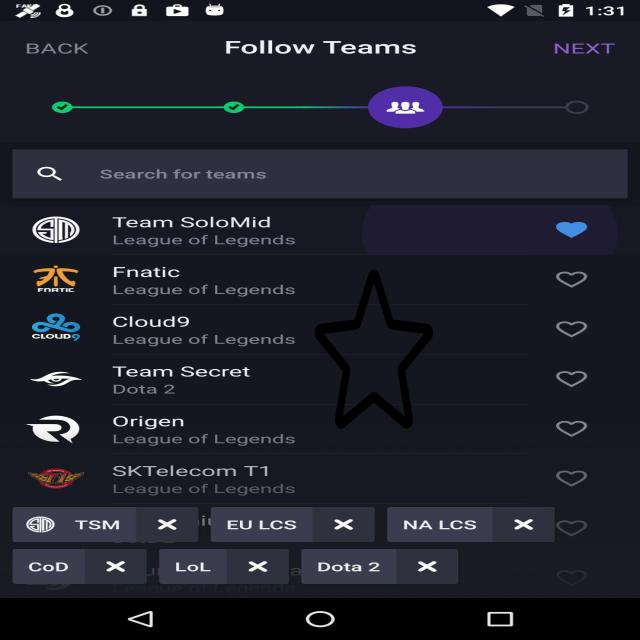forced continuity: (315, 266, 433, 432)
